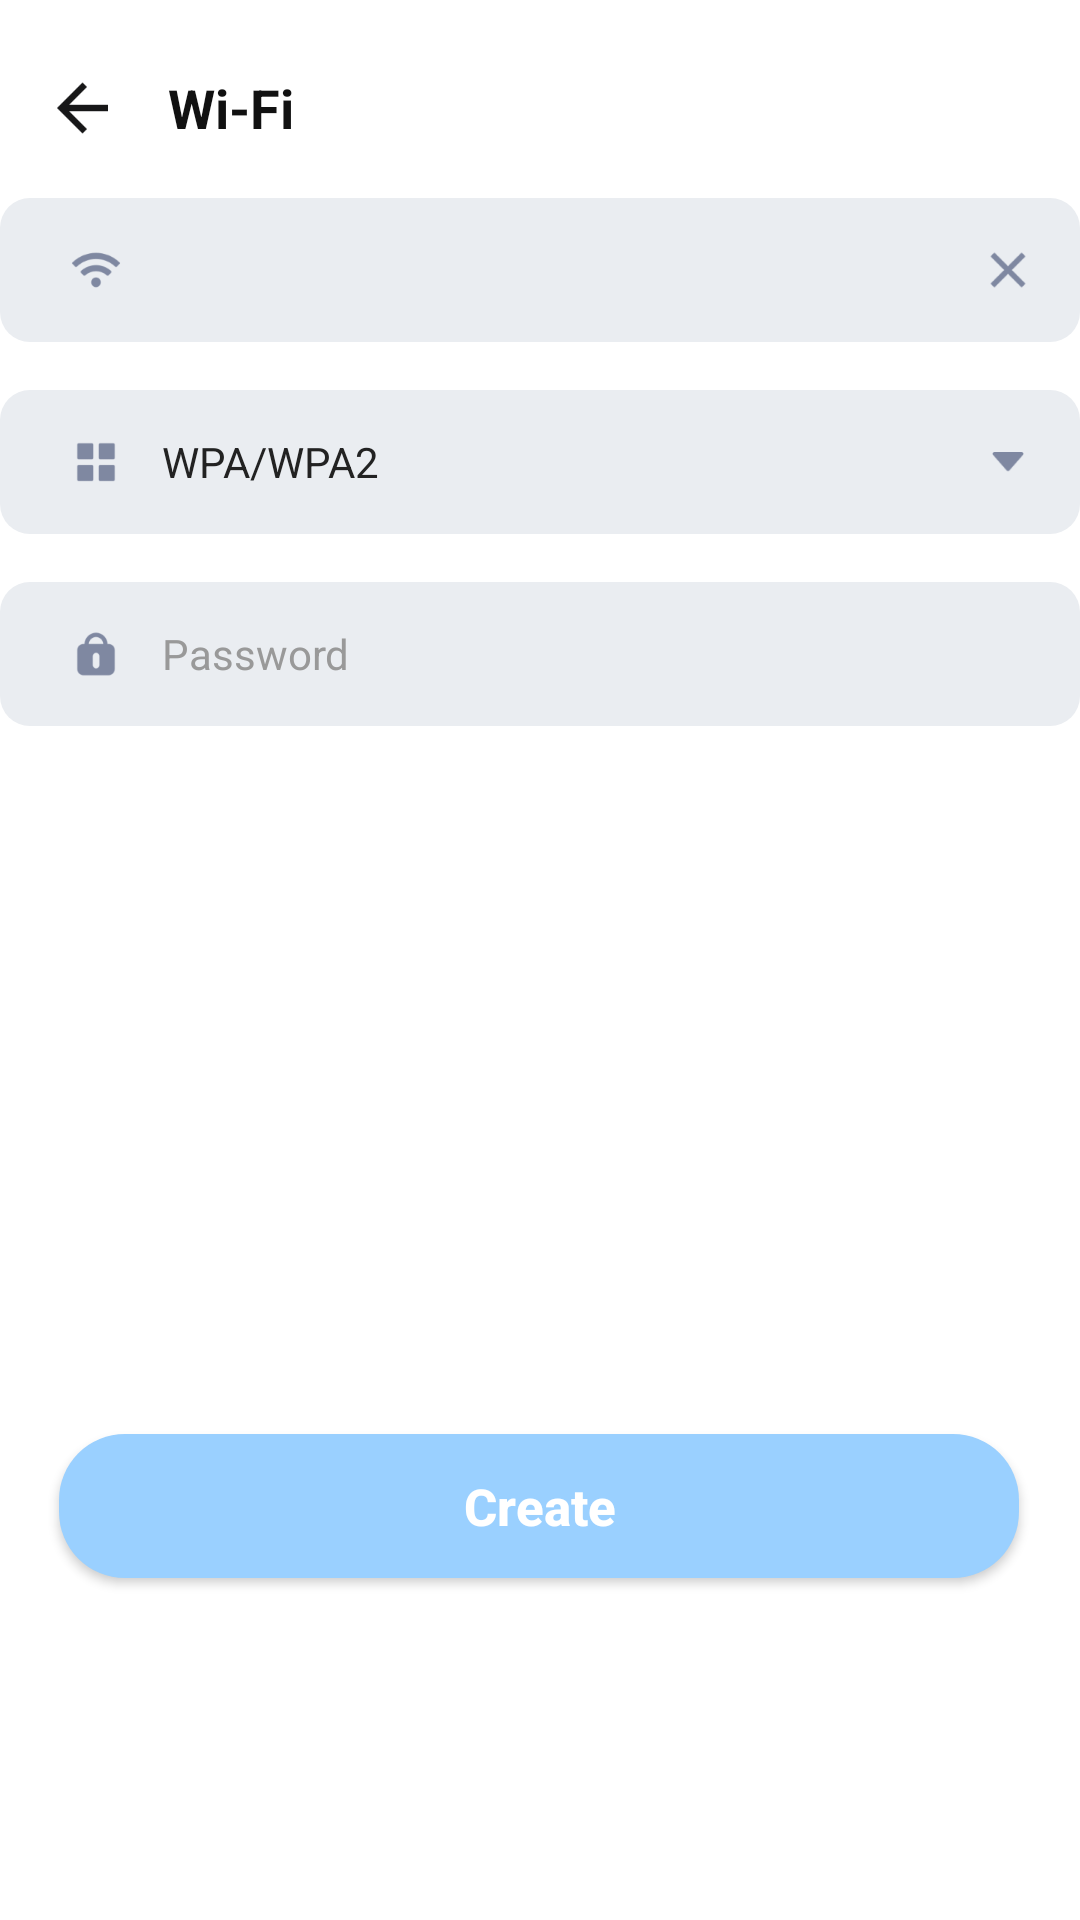

Screen size 1080w x 1920h. Icon name, then its box in pixels as (left=x1, top=y1, right=x2, bottom=y2):
create type: (left=77, top=443, right=115, bottom=481)
delete: (left=991, top=253, right=1026, bottom=288)
down: (left=992, top=452, right=1024, bottom=471)
results page return: (left=57, top=82, right=108, bottom=134)
